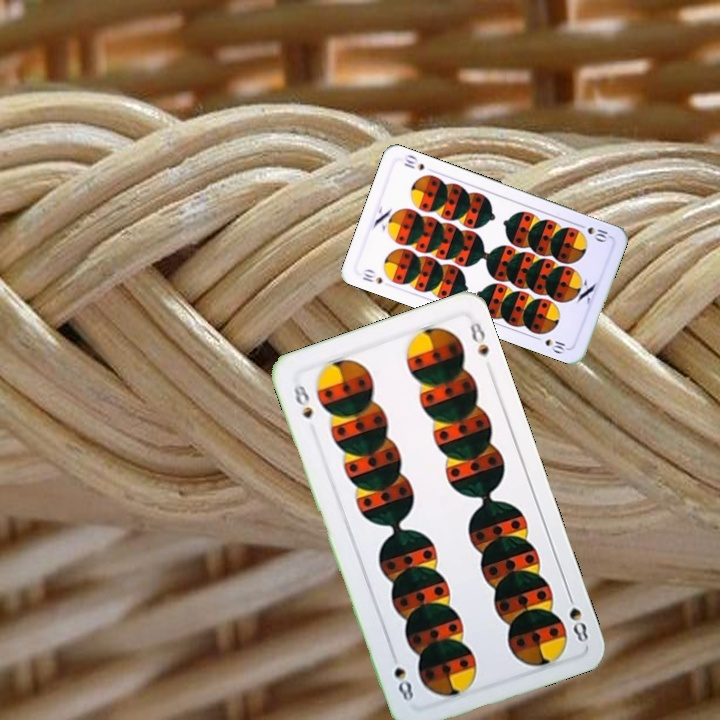S10: (573, 220, 610, 244), (358, 265, 385, 287)
S8: (563, 587, 591, 645), (289, 380, 316, 421)
